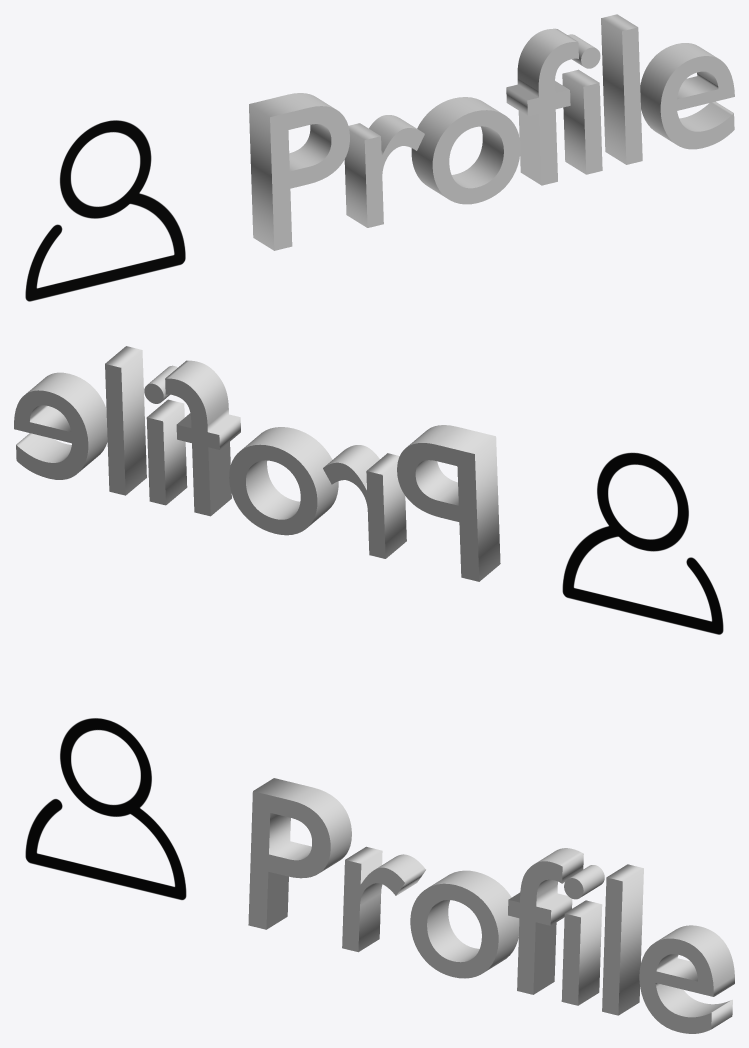
Rendered from Text-Profile.glb.
The picture shows the model from 3 angles, top to bottom: view 1: azimuth 30°, elevation 25°; view 2: azimuth 150°, elevation 25°; view 3: azimuth 330°, elevation 25°; orthographic projection.
Parts seen in each view (by area): view 1: Text, Profileicon-Photoroom; view 2: Text, Profileicon-Photoroom; view 3: Text, Profileicon-Photoroom.
Boxes of the visible parts, left/top/right/bottom form: Text: left=249, top=14, right=734, bottom=250; Profileicon-Photoroom: left=25, top=120, right=185, bottom=301; Text: left=14, top=346, right=500, bottom=581; Profileicon-Photoroom: left=562, top=452, right=723, bottom=634; Text: left=248, top=778, right=734, bottom=1033; Profileicon-Photoroom: left=25, top=718, right=186, bottom=899.
Size of the model in its own units: 3.87 by 1 by 0.2422.
Materials: 2 (1 with a texture image).
